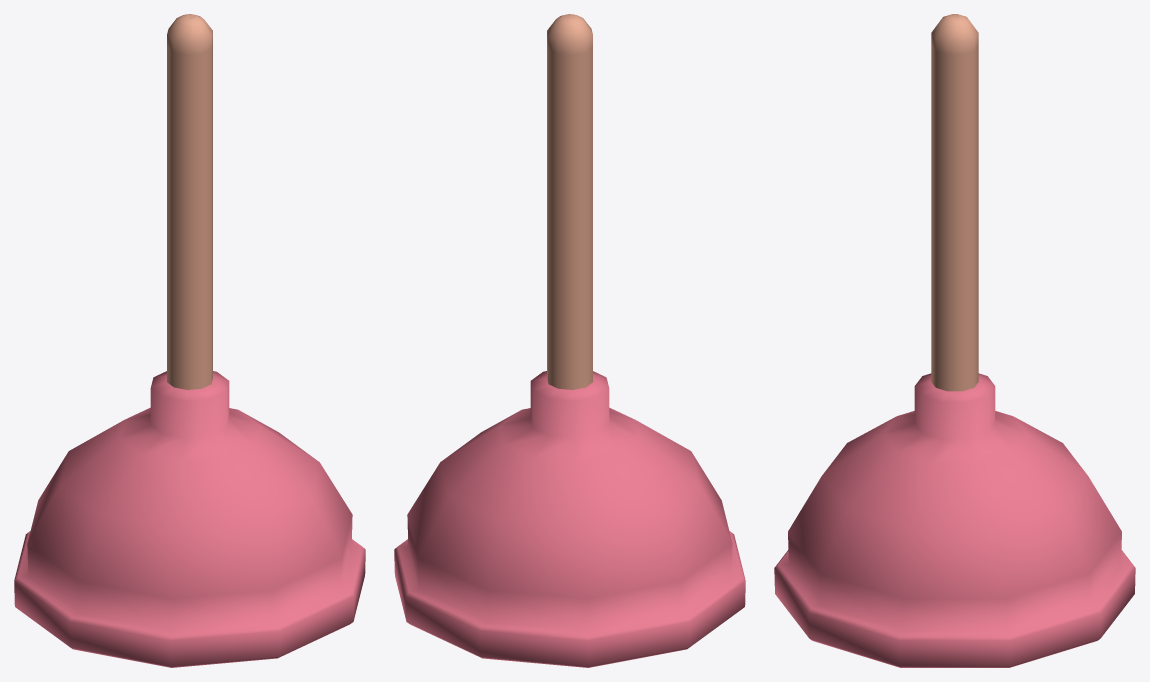
The model's file is CU_Plunger.fbx.
The picture shows the model from 3 angles, left to right: view 1: azimuth 30°, elevation 25°; view 2: azimuth 150°, elevation 25°; view 3: azimuth 270°, elevation 25°; orthographic projection.
Parts seen in each view (by area): view 1: PlungerHead, PlungerStick; view 2: PlungerHead, PlungerStick; view 3: PlungerHead, PlungerStick.
Part boxes in pixels (x1,y1,x2,y2): PlungerHead: [14, 371, 365, 667]; PlungerStick: [167, 14, 212, 389]; PlungerHead: [394, 371, 745, 667]; PlungerStick: [547, 14, 592, 389]; PlungerHead: [774, 373, 1135, 667]; PlungerStick: [931, 14, 978, 391].
Bounding box in the file's own units: 100 × 187 × 105.
